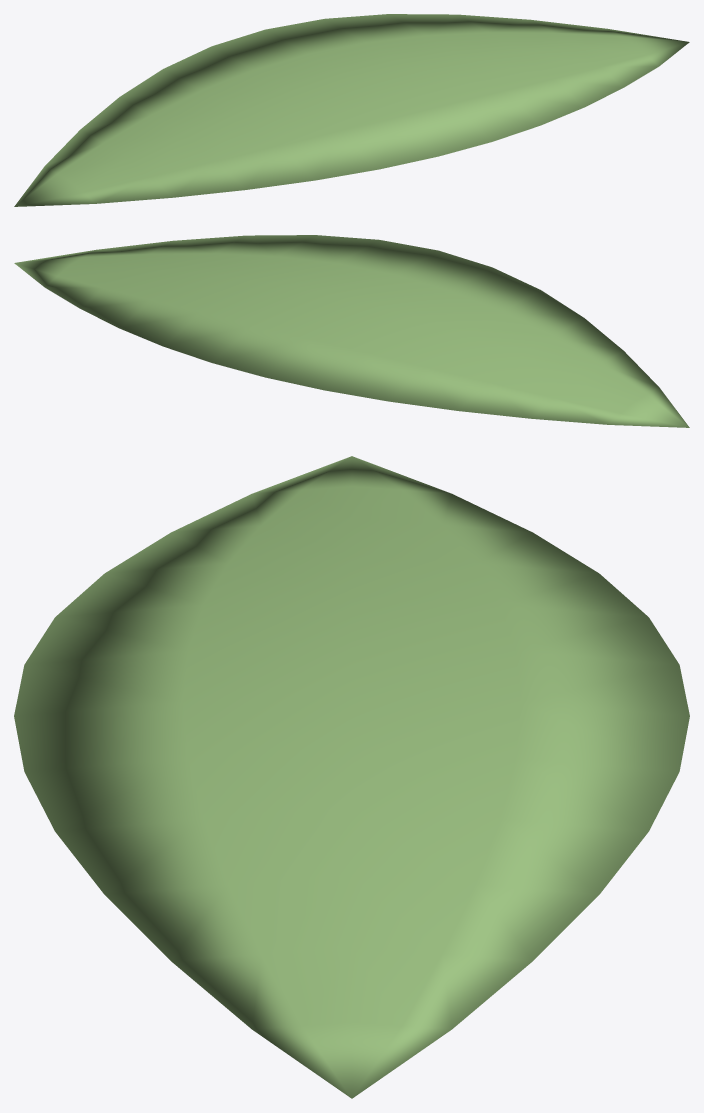
The model's file is MintLeaf.fbx.
3 renders of one model, top to bottom at view 1: azimuth 30°, elevation 25°; view 2: azimuth 150°, elevation 25°; view 3: azimuth 270°, elevation 25°, orthographic. The views are drawn at different scales.
Visible parts, largest first — view 1: MintLeaf; view 2: MintLeaf; view 3: MintLeaf.
Boxes of the visible parts, x1,y1,x2,y2 form: MintLeaf: (14, 14, 689, 206); MintLeaf: (14, 235, 689, 427); MintLeaf: (14, 456, 689, 1098).
Size of the model in its own units: 0.027 by 0.00175 by 0.012.
